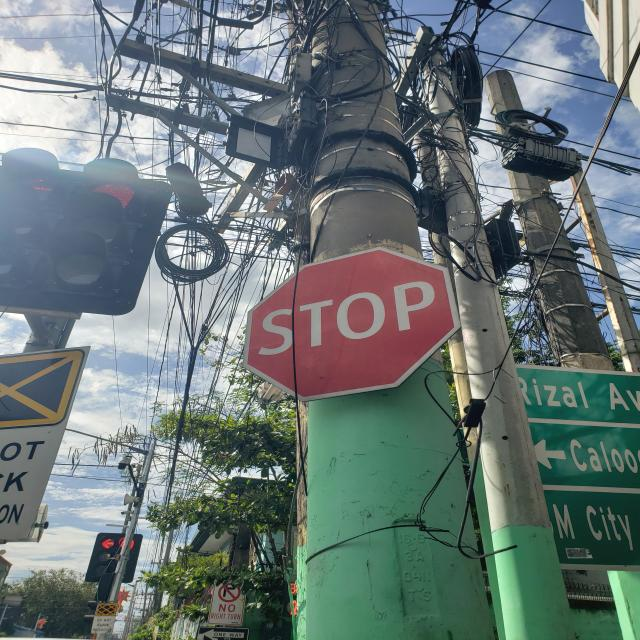stop-sign: (242, 246, 462, 402)
